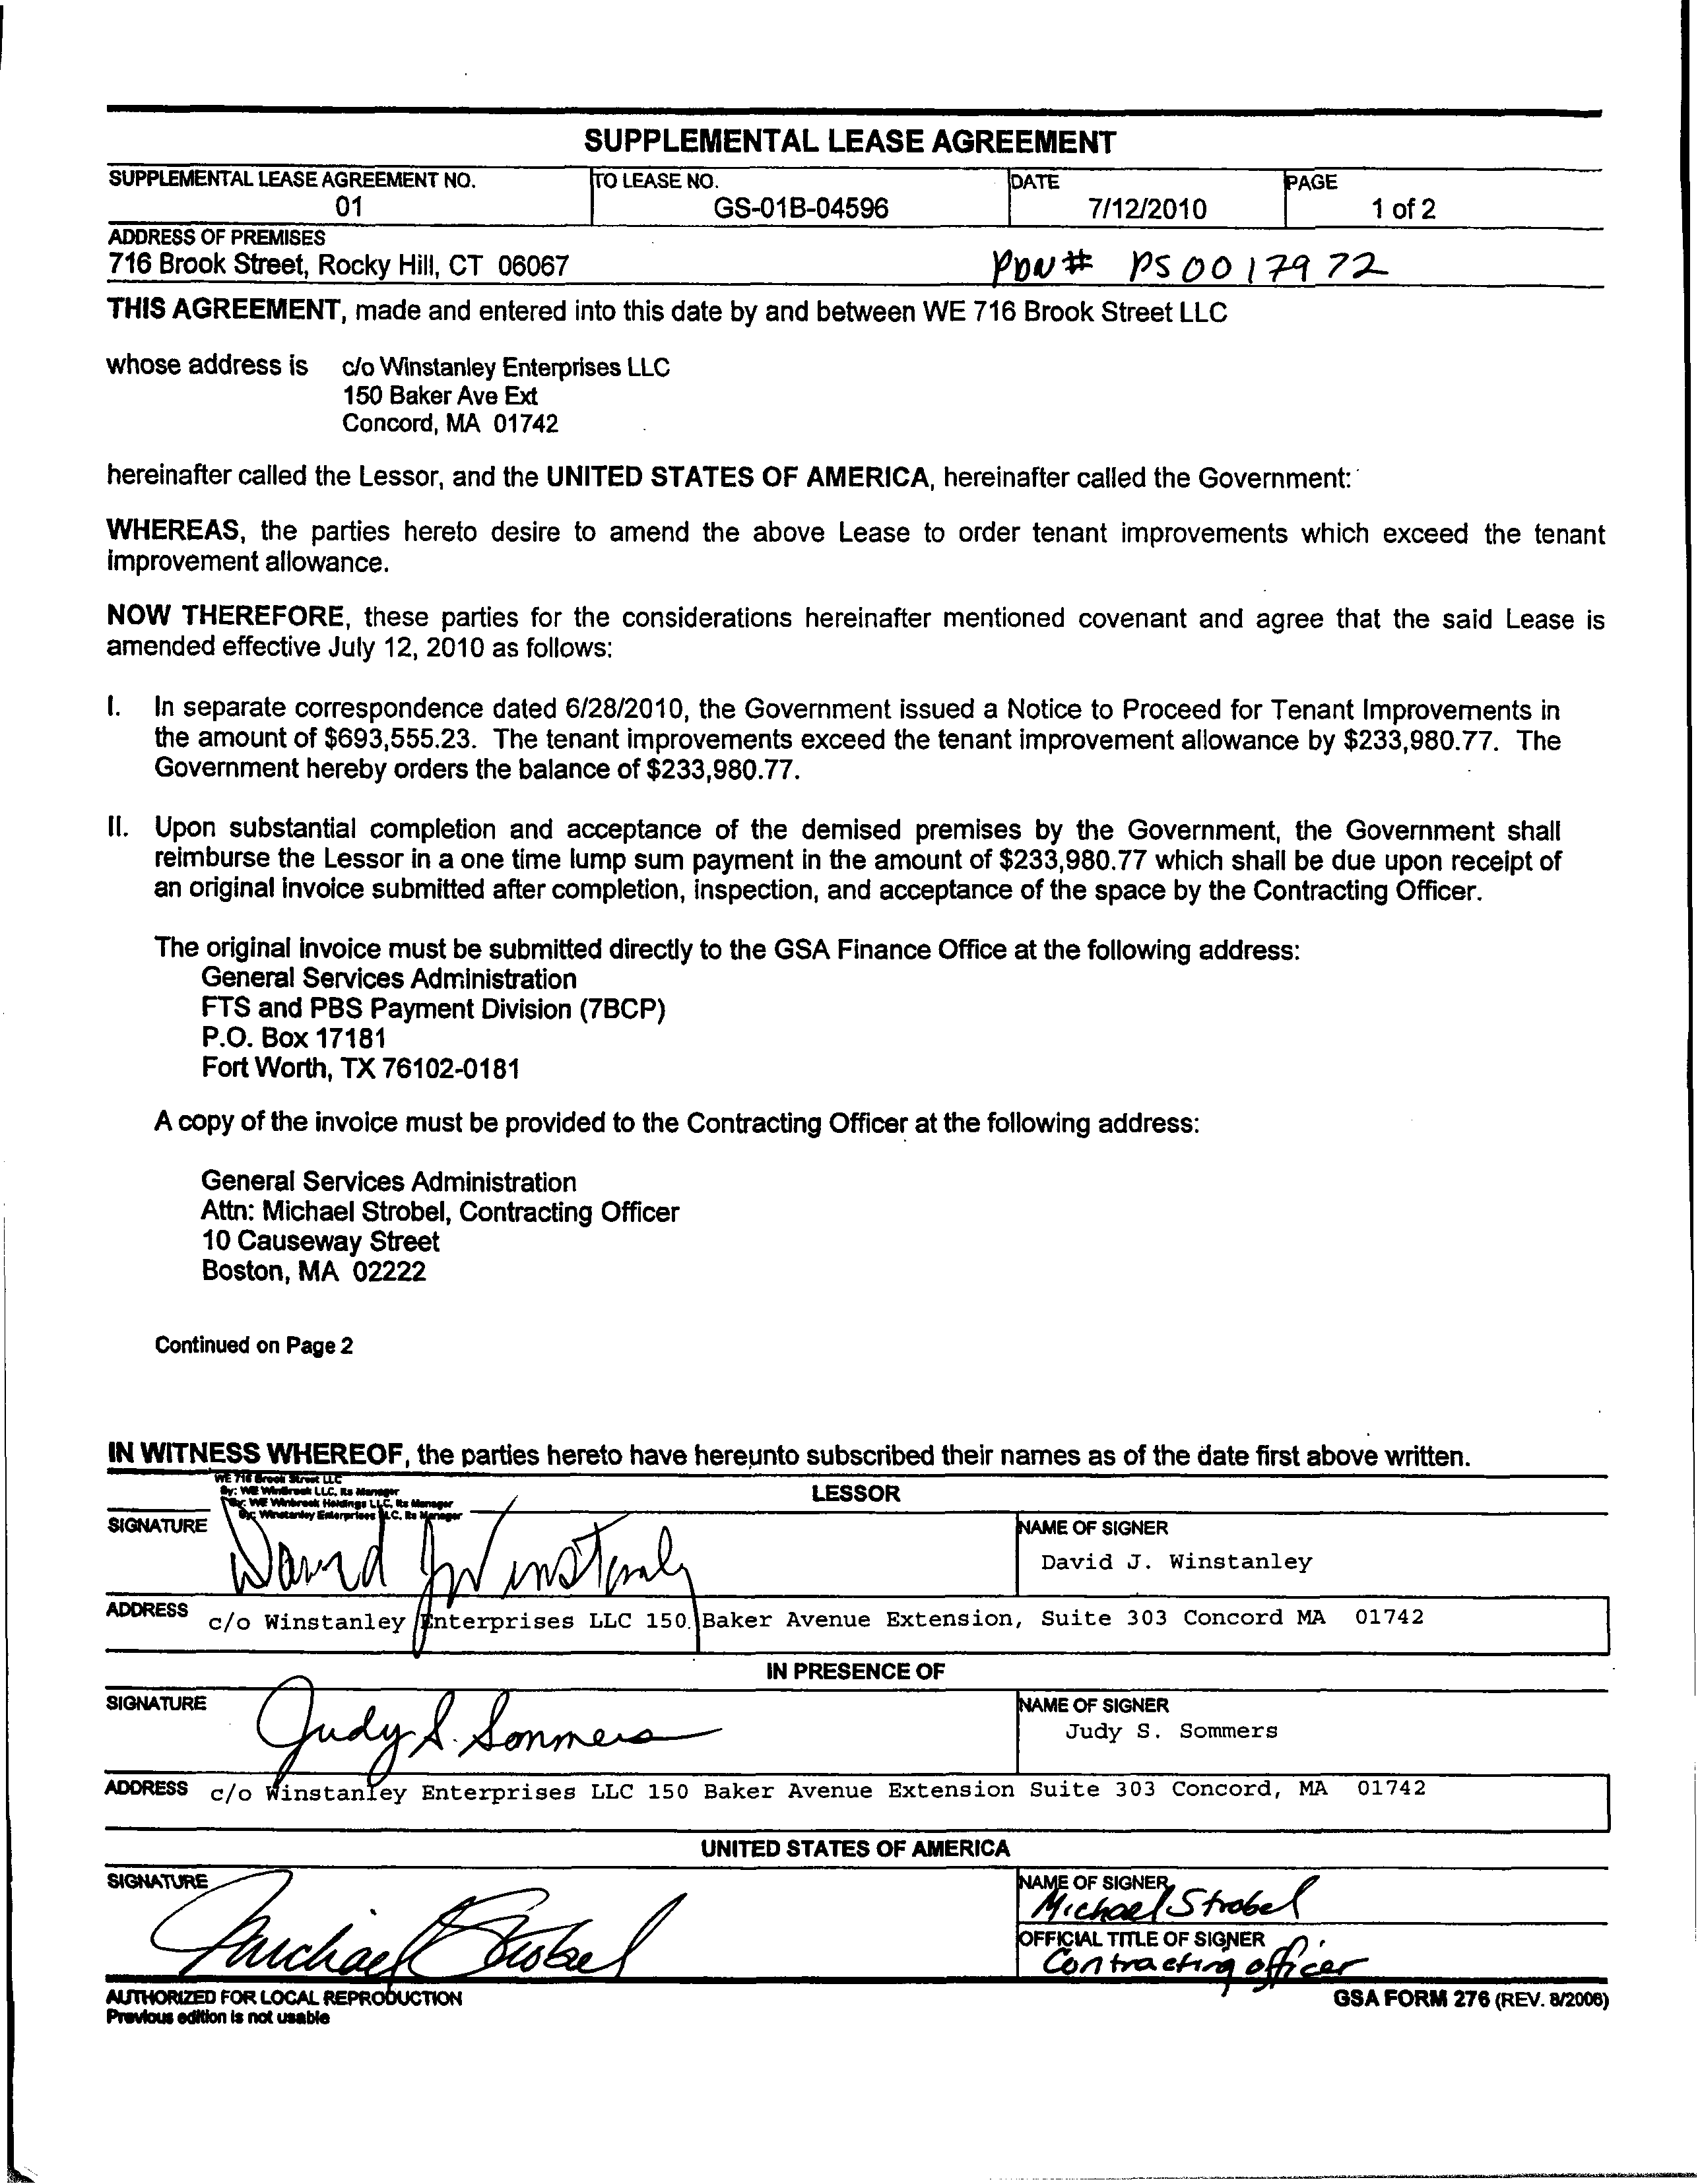handwritten: (168, 1860, 698, 1980), (218, 1498, 718, 1604), (133, 1893, 711, 1980), (250, 1675, 718, 1776), (220, 1523, 748, 1597), (253, 1698, 713, 1767), (984, 238, 1388, 289), (1019, 1886, 1333, 1923), (1039, 1946, 1374, 1978)
